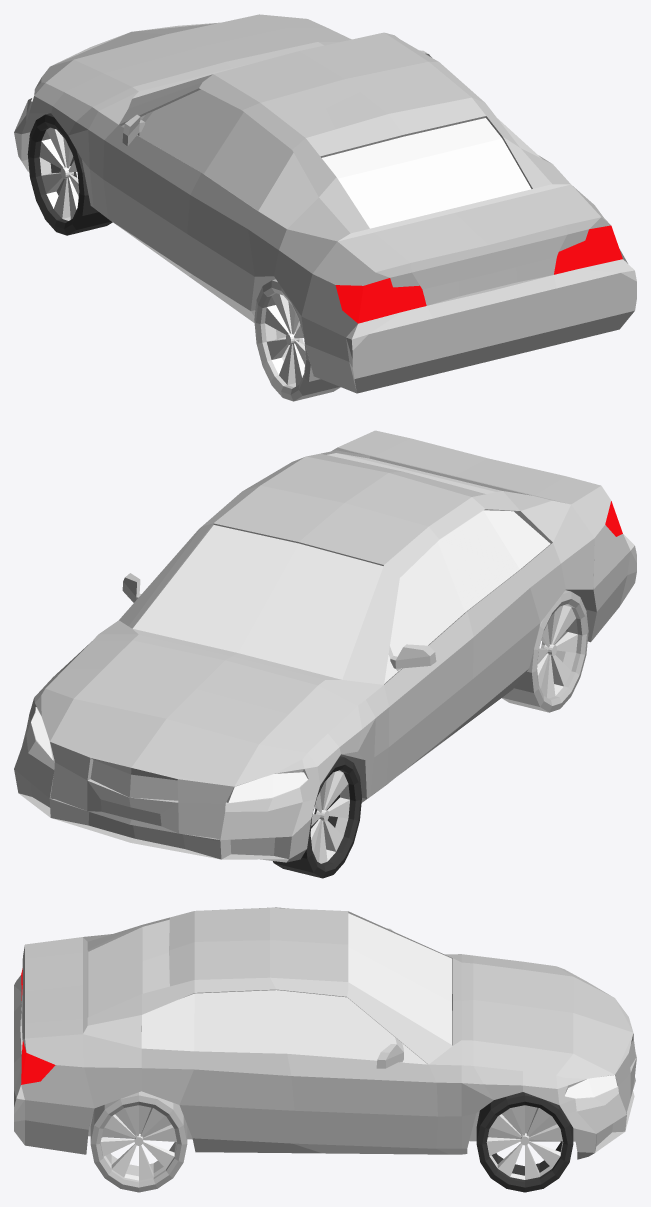
File: sedan3.glb
The picture shows the model from 3 angles, top to bottom: view 1: azimuth 30°, elevation 25°; view 2: azimuth 150°, elevation 25°; view 3: azimuth 270°, elevation 25°; orthographic projection. The views are drawn at different scales.
Parts seen in each view (by area): view 1: Cube.001; view 2: Cube.001; view 3: Cube.001.
Boxes of the visible parts, x1=… form: Cube.001: x1=14, y1=14, x2=636, y2=401; Cube.001: x1=14, y1=430, x2=636, y2=878; Cube.001: x1=14, y1=907, x2=636, y2=1192.
Bounding box in the file's own units: 6.26 × 4.43 × 12.84.
